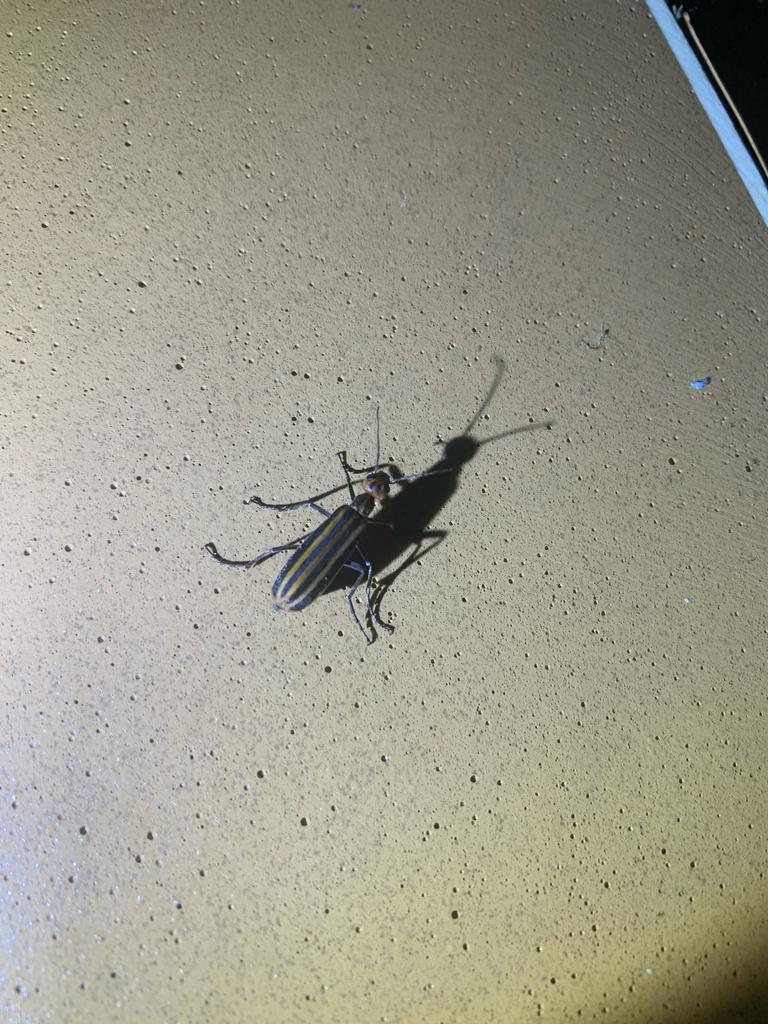blister_beetle: (166, 338, 522, 711)
